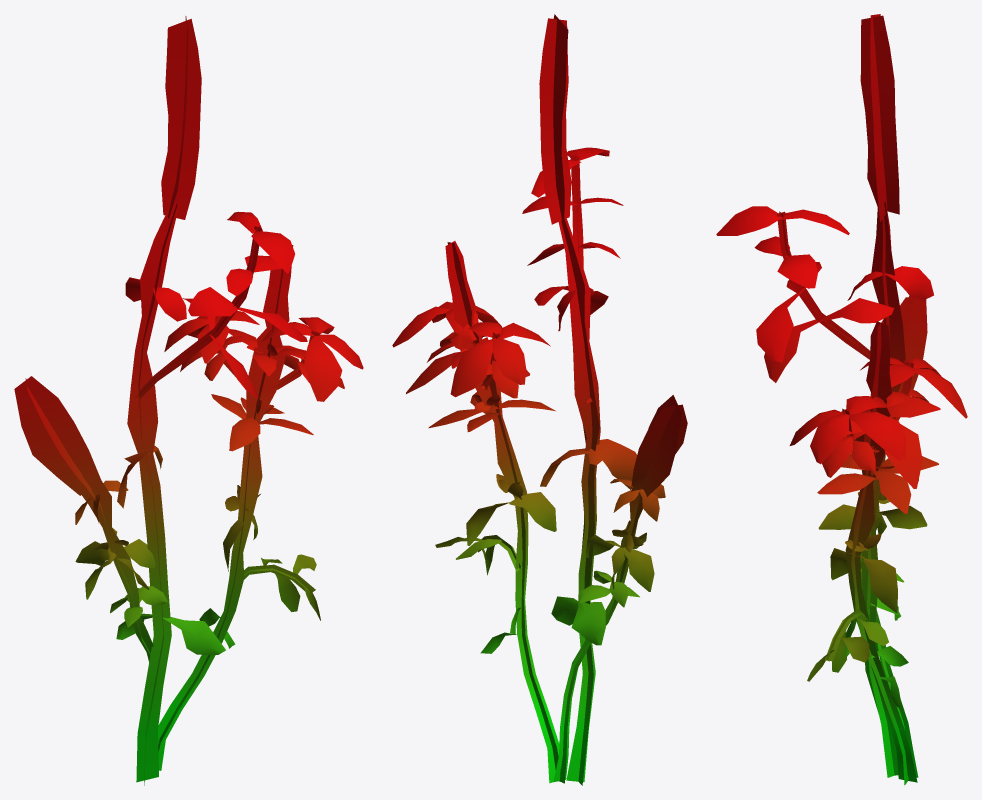
Rendered from Var3_LOD0.fbx.
3 views of the same model, side by side, from view 1: azimuth 30°, elevation 25°; view 2: azimuth 150°, elevation 25°; view 3: azimuth 270°, elevation 25° (orthographic). The views are drawn at different scales.
Visible parts, largest first — view 1: _b33c_Var3_LOD0; view 2: _b33c_Var3_LOD0; view 3: _b33c_Var3_LOD0.
Part boxes in pixels (left/top/right/bottom): _b33c_Var3_LOD0: left=14, top=16, right=363, bottom=785; _b33c_Var3_LOD0: left=392, top=14, right=687, bottom=785; _b33c_Var3_LOD0: left=716, top=14, right=967, bottom=785.
Size of the model in its own units: 27.2 by 65.37 by 19.09.
